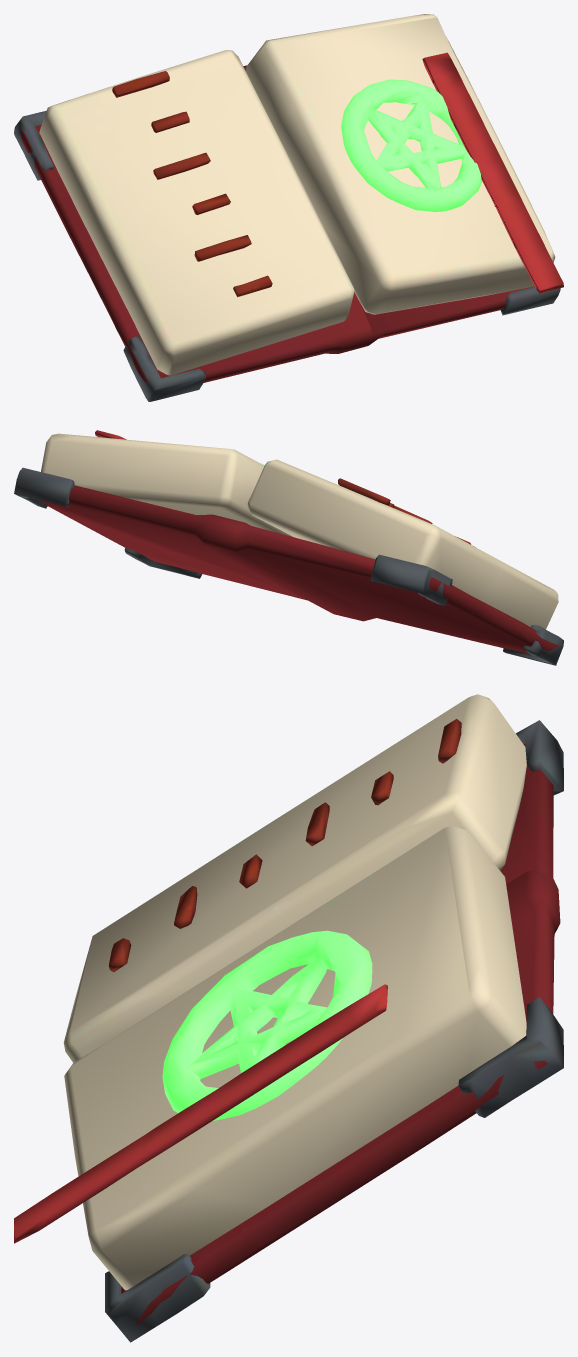
Rendered from grimoire.glb.
3 views of the same model, one above another, from view 1: azimuth 30°, elevation 25°; view 2: azimuth 150°, elevation 25°; view 3: azimuth 270°, elevation 25° (orthographic). The views are drawn at different scales.
Visible parts, largest first — view 1: cover, sigil; view 2: cover; view 3: cover, sigil.
Part boxes in pixels (x1=…): cover: x1=14, y1=14, x2=563, y2=401; sigil: x1=341, y1=79, x2=482, y2=211; cover: x1=14, y1=430, x2=563, y2=665; cover: x1=14, y1=694, x2=563, y2=1342; sigil: x1=162, y1=930, x2=372, y2=1120.
Size of the model in its own units: 0.46 by 0.2522 by 0.3357.
2 materials, 2 textured.
